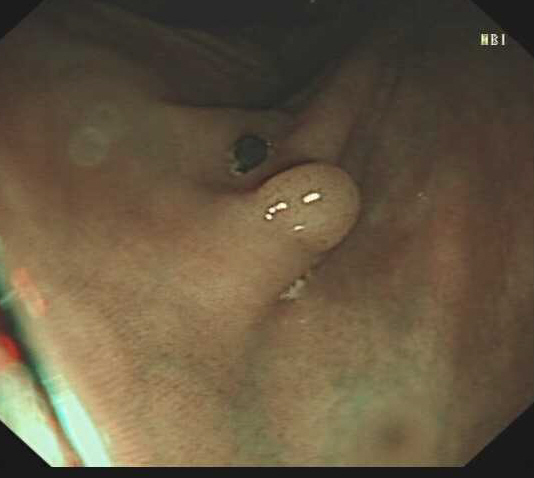adenoma: (247, 157, 363, 256)
